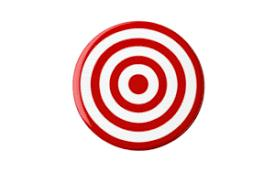target_red: (71, 20, 205, 150)
